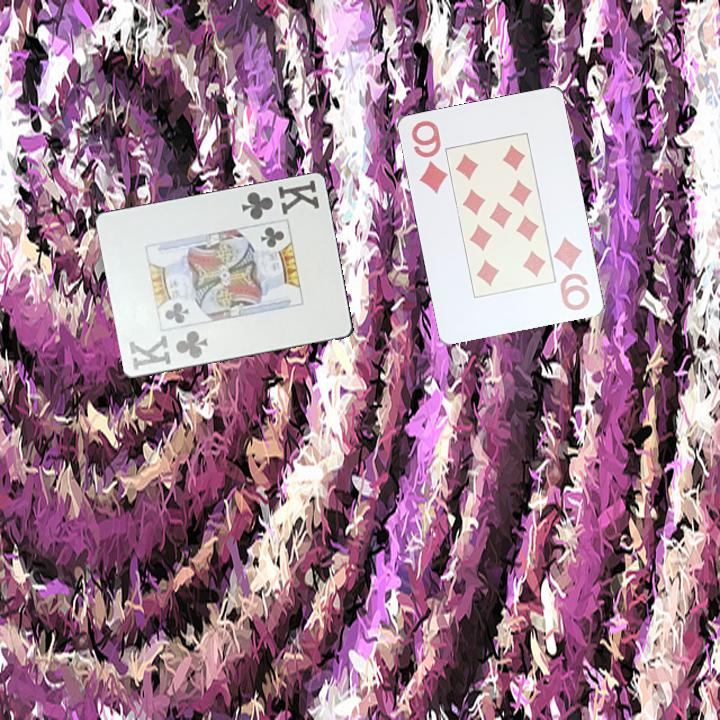9d: (551, 233, 593, 314), (408, 117, 450, 197)
Kc: (126, 326, 211, 373), (238, 176, 323, 222)
